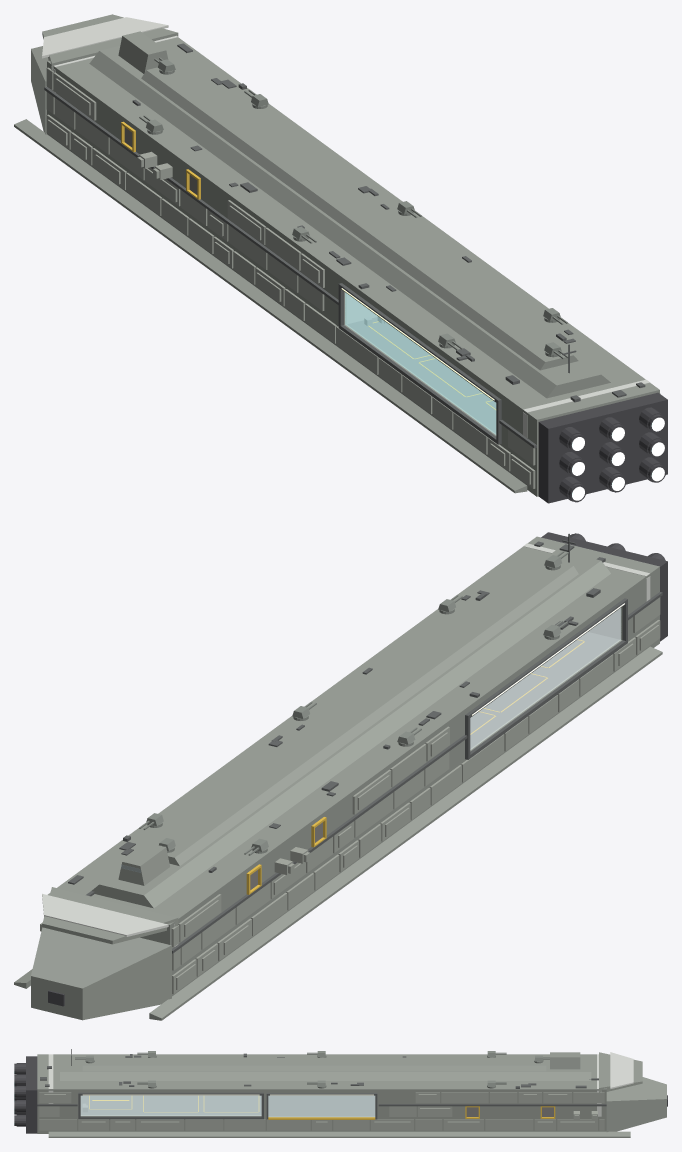
File: ship_LARGE_v3.glb
The picture shows the model from 3 angles, top to bottom: view 1: azimuth 30°, elevation 25°; view 2: azimuth 150°, elevation 25°; view 3: azimuth 270°, elevation 25°; orthographic projection. The views are drawn at different scales.
Parts seen in each view (by area): view 1: LARGE_Hull-col, LARGE_Armor, LARGE_Engines, LARGE_HangarShield_Port, LARGE_Trim, LARGE_Decks-col, LARGE_Accent, LARGE_Details, LARGE_EngineGlow, LARGE_Hazard; view 2: LARGE_Hull-col, LARGE_Armor, LARGE_HangarShield_Port, LARGE_Trim, LARGE_Decks-col, LARGE_Accent, LARGE_Engines, LARGE_Details, LARGE_Hazard; view 3: LARGE_Hull-col, LARGE_Armor, LARGE_HangarShield_Starboard, LARGE_Decks-col, LARGE_Trim, LARGE_CargoBayShield, LARGE_CargoBayDoor-col, LARGE_Engines, LARGE_Accent, LARGE_Hazard, LARGE_Lights, LARGE_Details.
Boxes of the visible parts, x1=… form: LARGE_Hull-col: x1=14, y1=14, x2=659, y2=496; LARGE_Armor: x1=46, y1=67, x2=660, y2=488; LARGE_Engines: x1=538, y1=392, x2=667, y2=503; LARGE_HangarShield_Port: x1=345, y1=292, x2=496, y2=434; LARGE_Trim: x1=44, y1=86, x2=536, y2=448; LARGE_Decks-col: x1=347, y1=317, x2=496, y2=433; LARGE_Accent: x1=42, y1=17, x2=649, y2=437; LARGE_Details: x1=132, y1=43, x2=645, y2=402; LARGE_EngineGlow: x1=572, y1=417, x2=664, y2=500; LARGE_Hazard: x1=121, y1=121, x2=495, y2=409; LARGE_Hull-col: x1=14, y1=536, x2=662, y2=1020; LARGE_Armor: x1=171, y1=597, x2=660, y2=994; LARGE_HangarShield_Port: x1=470, y1=608, x2=621, y2=749; LARGE_Trim: x1=172, y1=592, x2=662, y2=953; LARGE_Decks-col: x1=470, y1=632, x2=618, y2=748; LARGE_Accent: x1=42, y1=543, x2=650, y2=946; LARGE_Engines: x1=48, y1=532, x2=667, y2=1006; LARGE_Details: x1=68, y1=533, x2=605, y2=896; LARGE_Hazard: x1=246, y1=639, x2=584, y2=894; LARGE_Hull-col: x1=37, y1=1052, x2=666, y2=1137; LARGE_Armor: x1=39, y1=1092, x2=604, y2=1130; LARGE_HangarShield_Starboard: x1=80, y1=1095, x2=261, y2=1115; LARGE_Decks-col: x1=80, y1=1095, x2=261, y2=1115; LARGE_Trim: x1=37, y1=1092, x2=606, y2=1119; LARGE_CargoBayShield: x1=268, y1=1095, x2=375, y2=1116; LARGE_CargoBayDoor-col: x1=268, y1=1095, x2=375, y2=1116; LARGE_Engines: x1=14, y1=1056, x2=667, y2=1133; LARGE_Accent: x1=48, y1=1052, x2=633, y2=1116; LARGE_Hazard: x1=89, y1=1096, x2=555, y2=1119; LARGE_Lights: x1=83, y1=1094, x2=373, y2=1095; LARGE_Details: x1=40, y1=1049, x2=598, y2=1088.
Size of the model in its own units: 27.3 by 21.4 by 174.
